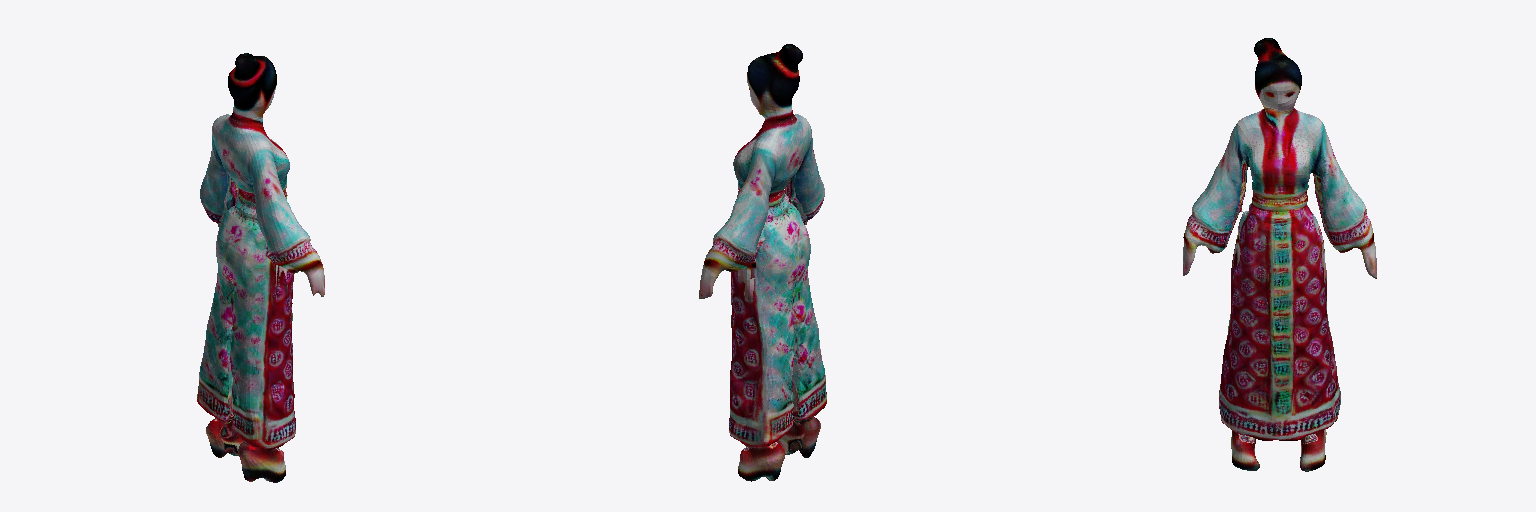
The picture shows the model from 3 angles: view 1: azimuth 30°, elevation 25°; view 2: azimuth 150°, elevation 25°; view 3: azimuth 270°, elevation 25°; orthographic projection.
Parts seen in each view (by area): view 1: mesh; view 2: mesh; view 3: mesh.
Part boxes in pixels (x1,y1,x2,y2): mesh: (197, 53, 324, 482); mesh: (699, 44, 826, 481); mesh: (1183, 38, 1376, 471).
Bounding box in the file's own units: 0.1669 × 0.9994 × 0.4195.
1 materials, 1 textured.